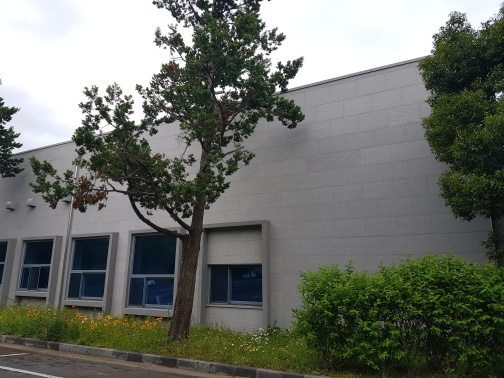College of Social Sciences: (22, 89, 481, 355), (14, 211, 183, 328)
